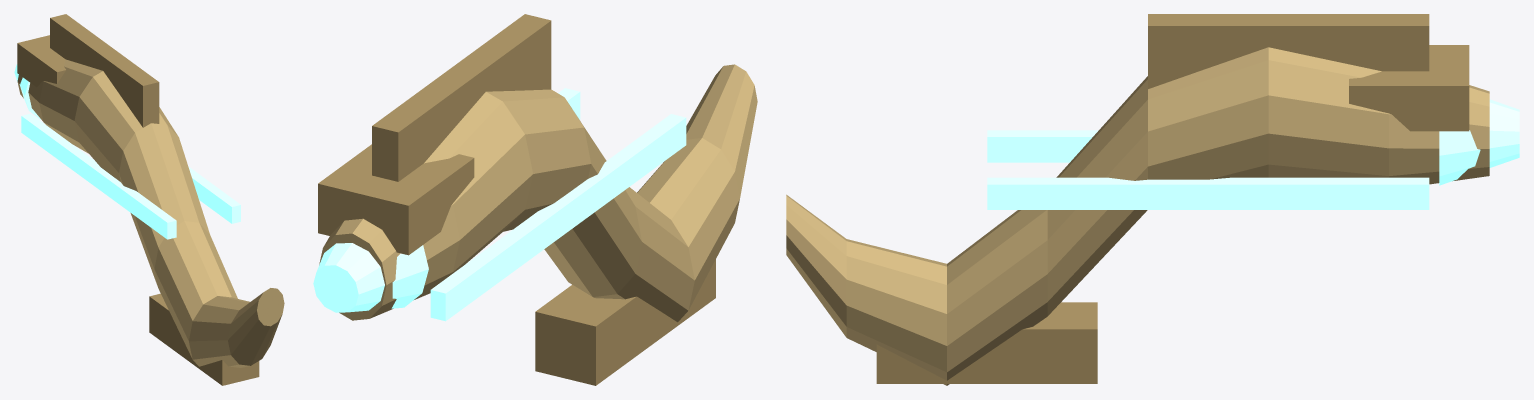
File: zat_sidearm.glb
3 views of the same model, side by side, from view 1: azimuth 30°, elevation 25°; view 2: azimuth 150°, elevation 25°; view 3: azimuth 270°, elevation 25° (orthographic). The views are drawn at different scales.
Parts seen in each view (by area): view 1: Zat_Sidearm; view 2: Zat_Sidearm; view 3: Zat_Sidearm.
Part boxes in pixels (box(x1,y1,x2,y2)): Zat_Sidearm: box(14, 14, 284, 385); Zat_Sidearm: box(313, 14, 757, 385); Zat_Sidearm: box(786, 14, 1519, 385).
Size of the model in its own units: 0.064 by 0.1995 by 0.365.
